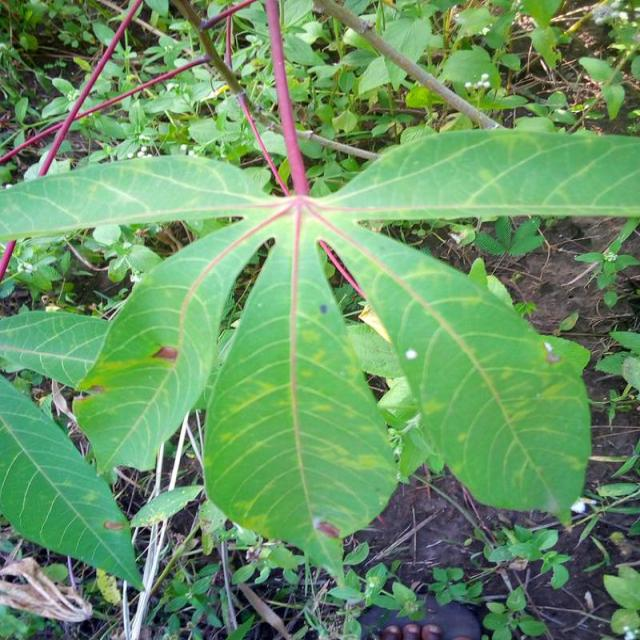cassava leaf: (1, 0, 638, 585), (310, 211, 593, 527), (201, 205, 399, 581), (70, 211, 274, 481), (0, 372, 145, 592), (313, 126, 638, 222), (0, 152, 279, 243)
